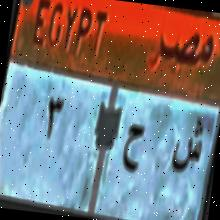3: (32, 88, 74, 156)
7aa: (115, 112, 150, 187)
sheen: (168, 110, 208, 182)
